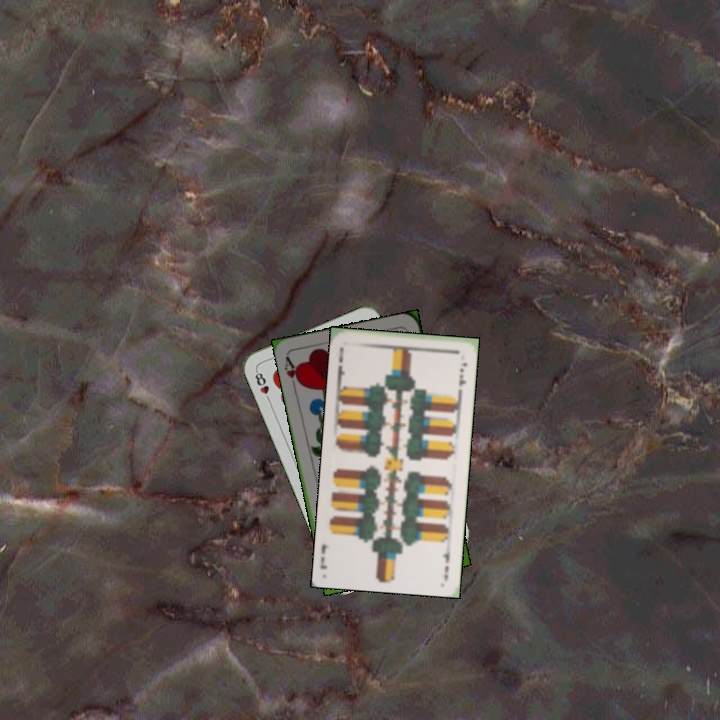E7: (333, 343, 348, 383), (439, 540, 453, 581)
H8: (251, 366, 273, 405)
HA: (281, 352, 304, 392)
